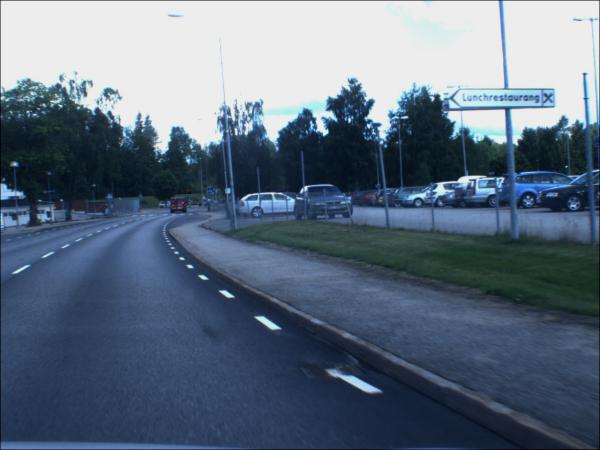GIVE_WAY: (189, 192, 193, 196)
PASS_RIGHT_SIDE: (189, 196, 194, 201)
PEDESTRIAN_CROSSING: (108, 195, 115, 201), (209, 189, 215, 195)
